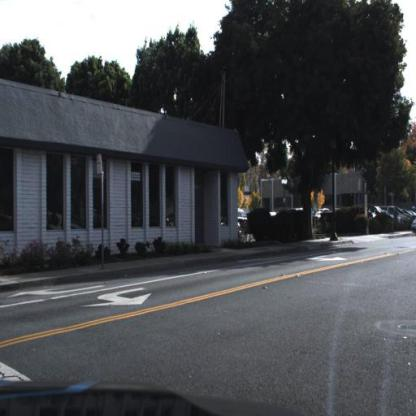car: (412, 213, 416, 237)
